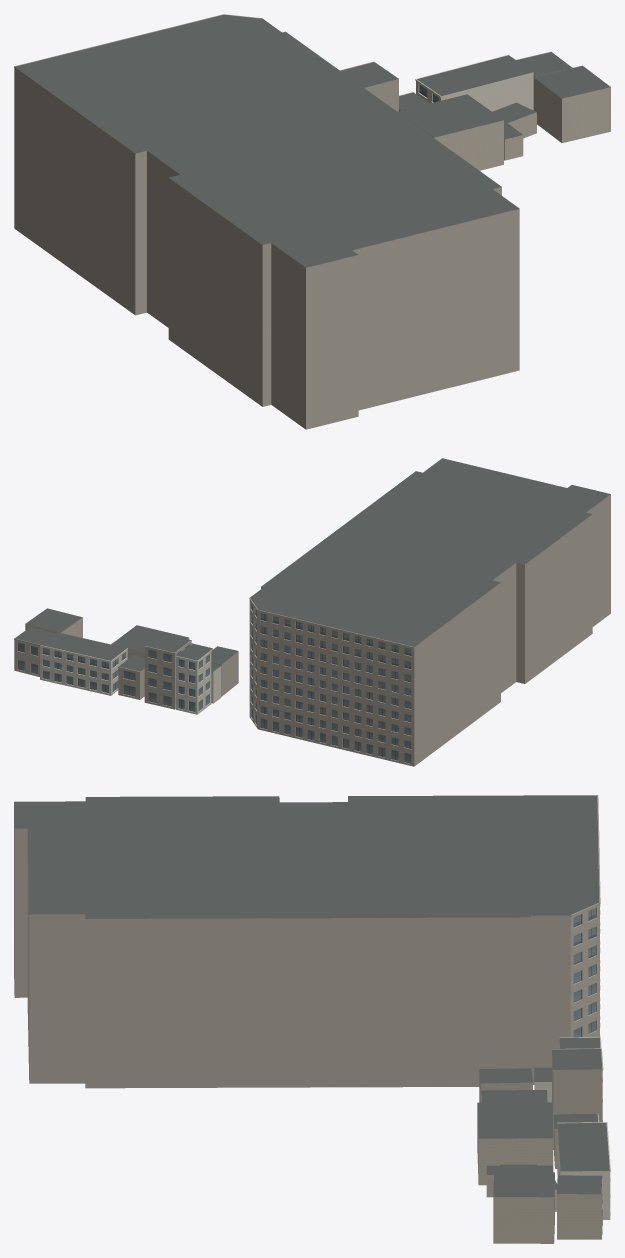
File: near.gltf
3 renders of one model, top to bottom at view 1: azimuth 30°, elevation 25°; view 2: azimuth 150°, elevation 25°; view 3: azimuth 270°, elevation 25°, orthographic. The views are drawn at different scales.
Visible parts, largest first — view 1: cell-e006-s001_near_tile-wall, cell-e006-s001_near_roof, cell-e006-s001_near_stone, cell-e006-s001_near_plaster; view 2: cell-e006-s001_near_tile-wall, cell-e006-s001_near_roof, cell-e006-s001_near_glass, cell-e006-s001_near_plaster, cell-e006-s001_near_frame, cell-e006-s001_near_stone; view 3: cell-e006-s001_near_tile-wall, cell-e006-s001_near_roof, cell-e006-s001_near_stone, cell-e006-s001_near_glass, cell-e006-s001_near_plaster.
Boxes of the visible parts, box(x1,y1,x2,y2) form: cell-e006-s001_near_tile-wall: box(14, 14, 519, 429); cell-e006-s001_near_roof: box(15, 15, 610, 267); cell-e006-s001_near_stone: box(409, 68, 610, 170); cell-e006-s001_near_plaster: box(415, 54, 533, 111); cell-e006-s001_near_tile-wall: box(118, 494, 610, 766); cell-e006-s001_near_roof: box(15, 458, 610, 671); cell-e006-s001_near_glass: box(17, 603, 411, 763); cell-e006-s001_near_plaster: box(40, 645, 221, 714); cell-e006-s001_near_frame: box(18, 609, 410, 763); cell-e006-s001_near_stone: box(14, 617, 189, 676); cell-e006-s001_near_tile-wall: box(14, 795, 603, 1168); cell-e006-s001_near_roof: box(14, 795, 609, 1197); cell-e006-s001_near_stone: box(477, 1106, 602, 1243); cell-e006-s001_near_glass: box(573, 908, 595, 1037); cell-e006-s001_near_plaster: box(481, 1037, 610, 1219).
Bounding box in the file's own units: 96.58 × 27.3 × 87.2.
Materials: 7 (5 with a texture image).
